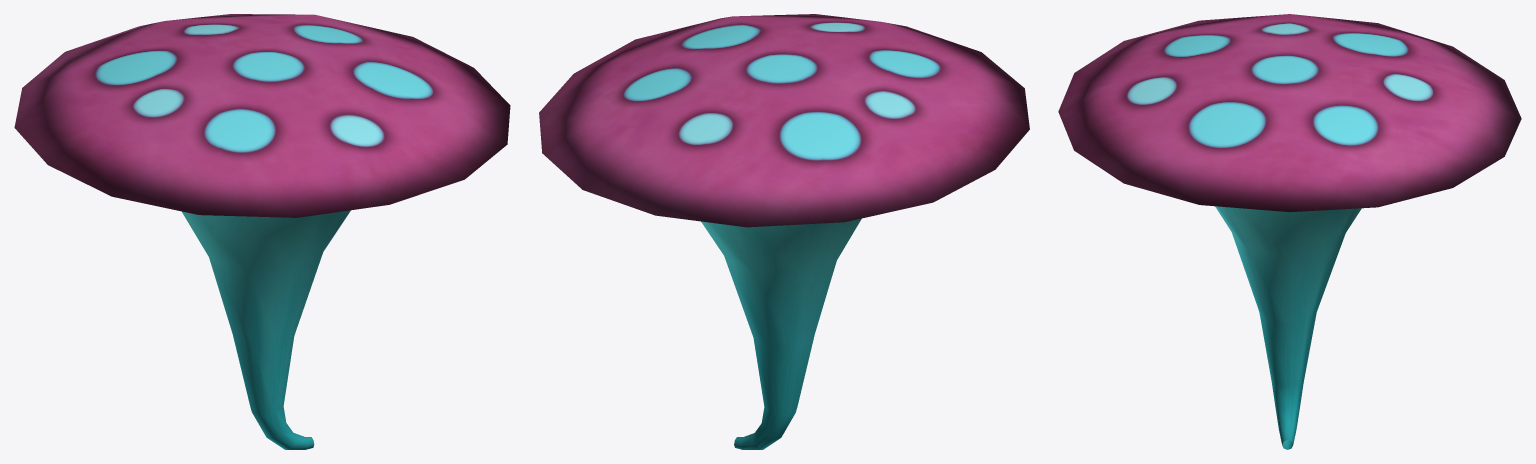
Rendered from Mushroom_Curved2_Pink.fbx.
3 renders of one model, left to right at view 1: azimuth 30°, elevation 25°; view 2: azimuth 150°, elevation 25°; view 3: azimuth 270°, elevation 25°, orthographic. The views are drawn at different scales.
Visible parts, largest first — view 1: Mesh; view 2: Mesh; view 3: Mesh.
Part boxes in pixels (bbox=[...]): Mesh: bbox=[14, 14, 510, 449]; Mesh: bbox=[539, 14, 1029, 449]; Mesh: bbox=[1058, 14, 1521, 449].
Bounding box in the file's own units: 127 × 113 × 130.
